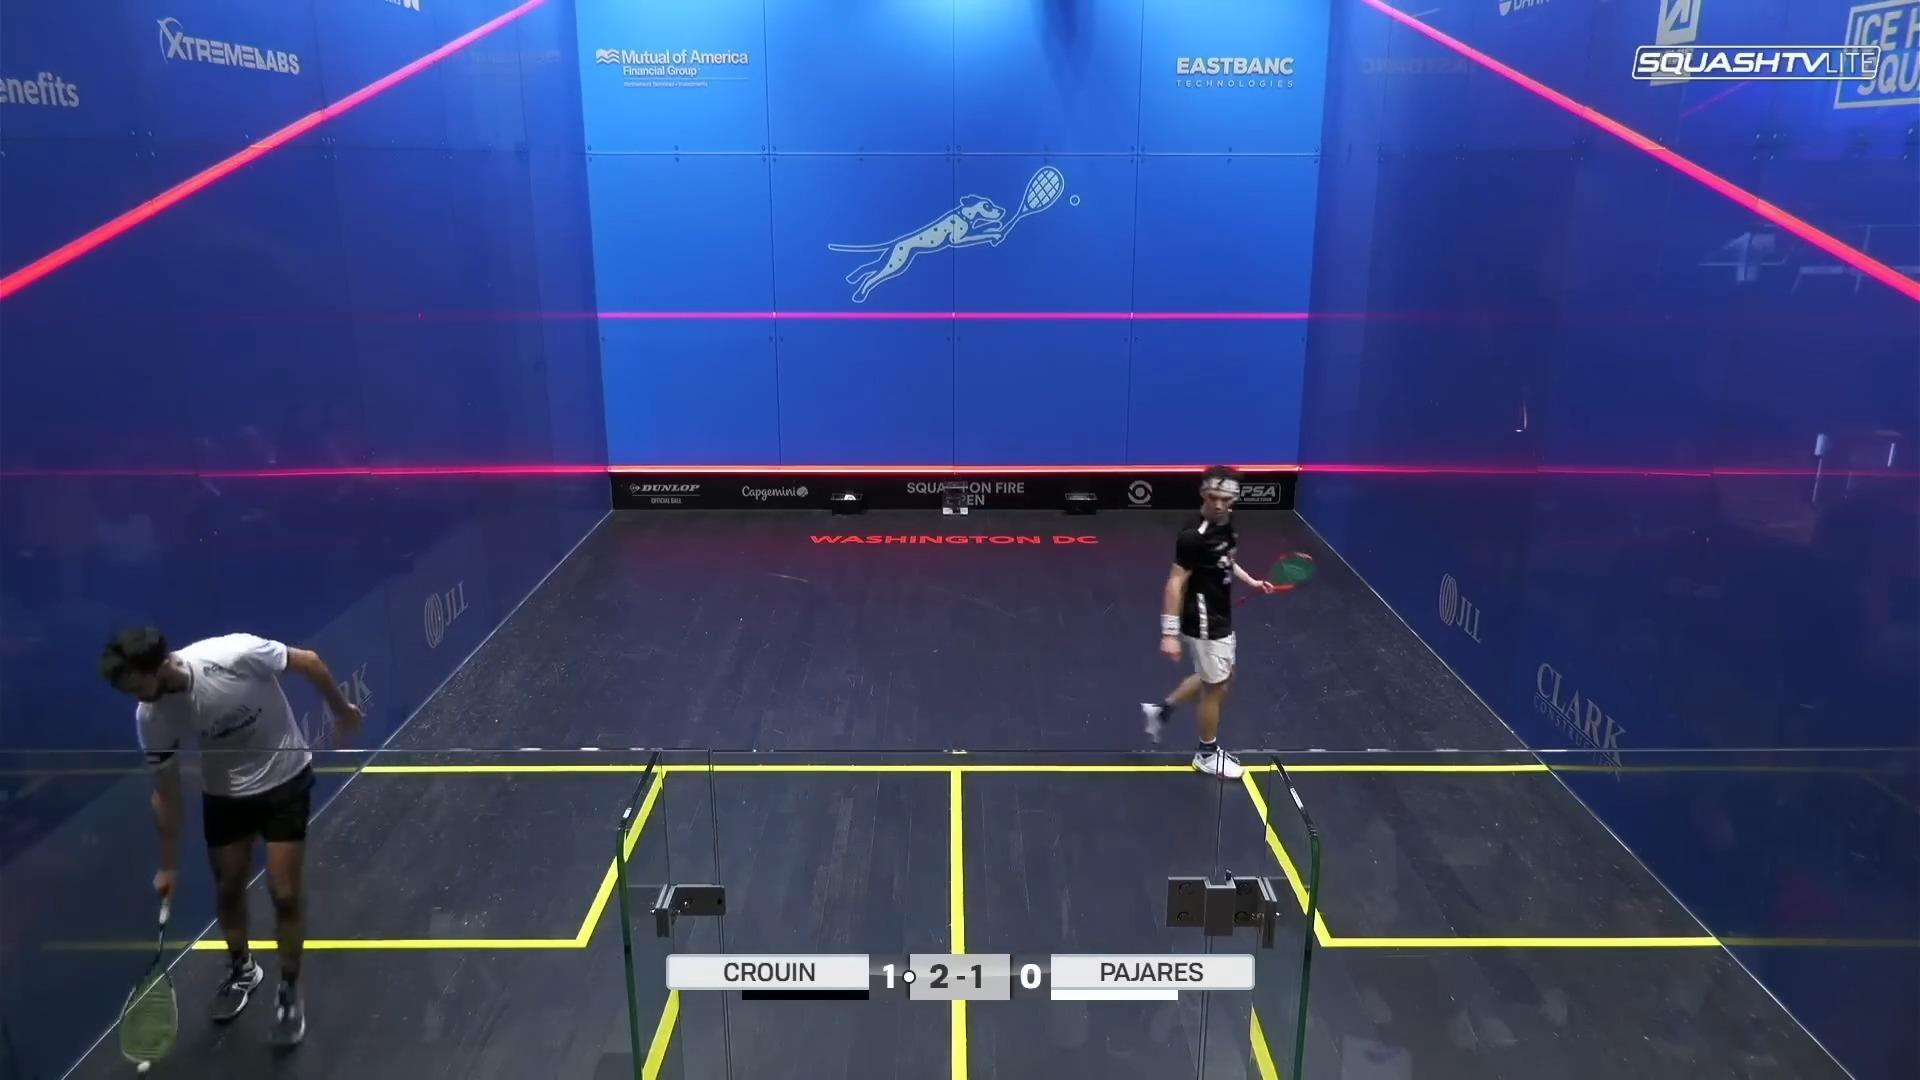Squash-Ball: (131, 1048, 166, 1080)
